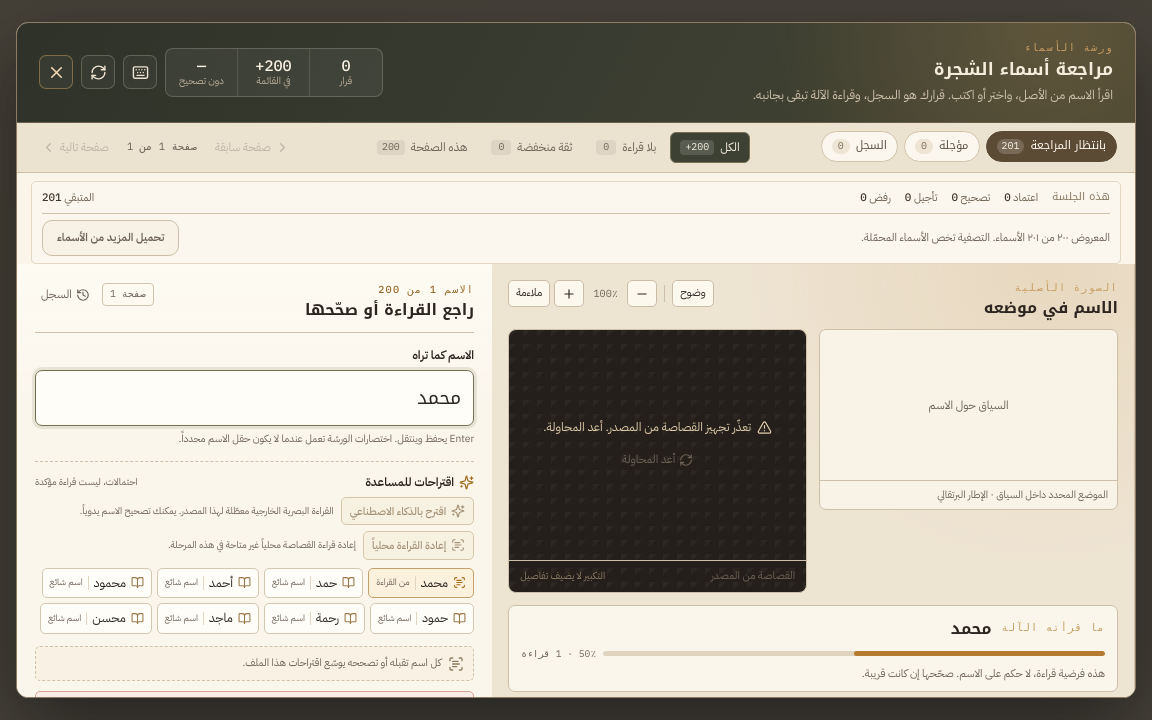
Scenario: lets a researcher browse names beyond the first 200 without making decisions
Click the button "تحميل المزيد من الأسماء": (111, 238) [42,220,179,256]
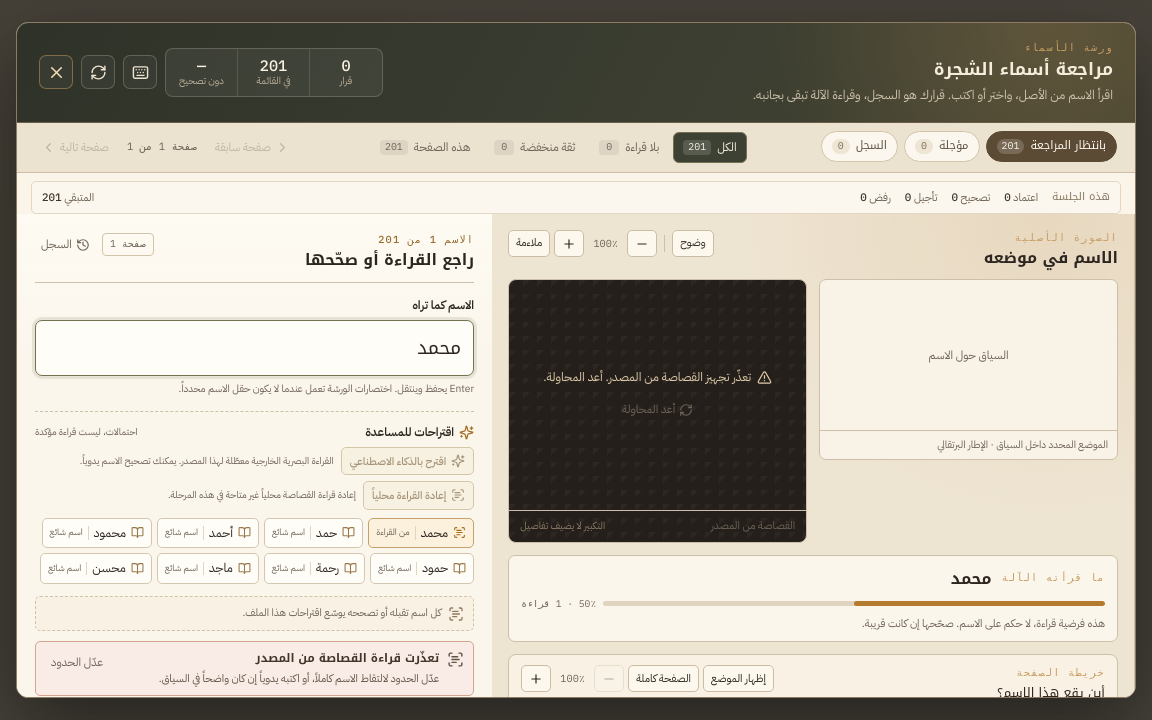
Expected: the element with class "name-bench-stats" shows "201", [260,55,287,75]
